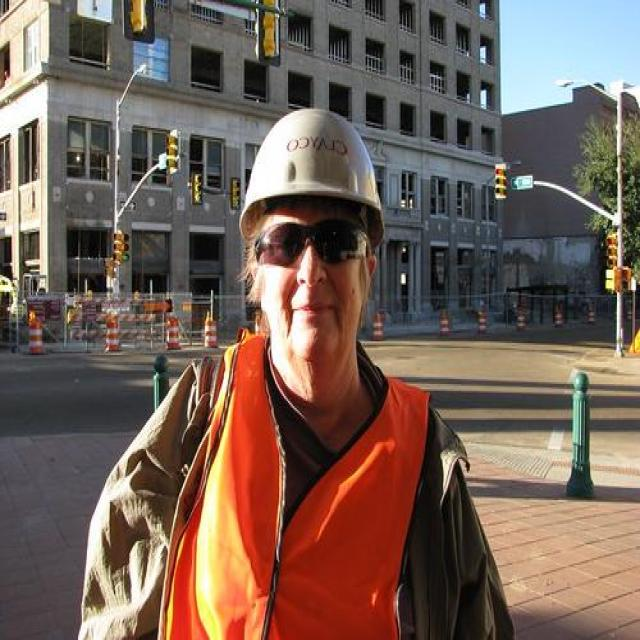Reflective-Jacket: (142, 343, 458, 637)
Safety-Helmet: (230, 99, 392, 247)
